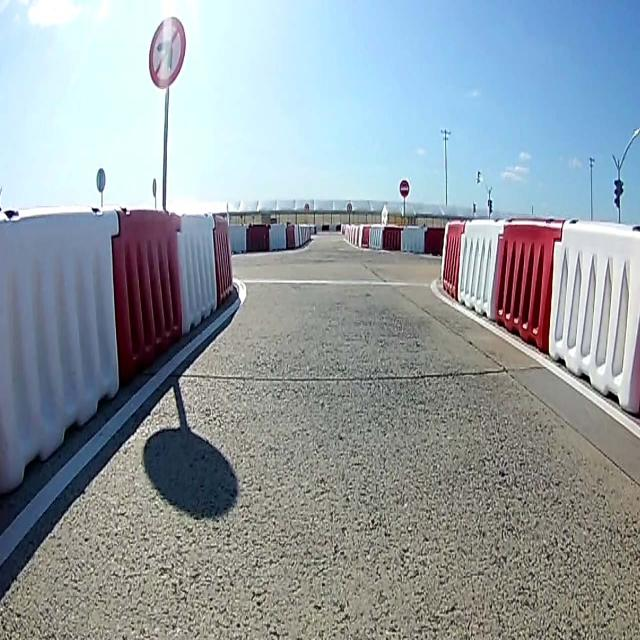girisyok: (400, 178, 410, 198)
soladonulmez: (148, 17, 186, 90)
